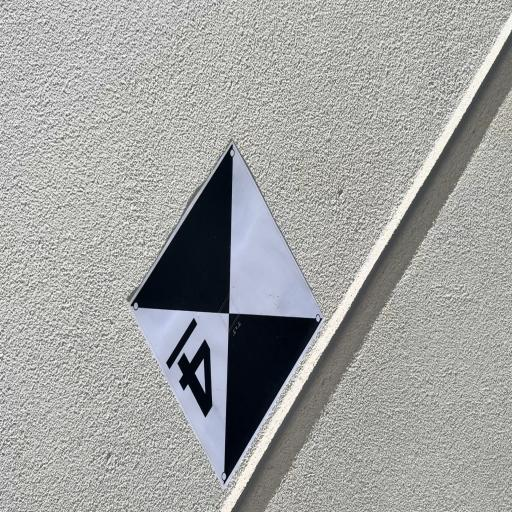target4: (127, 138, 324, 493)
